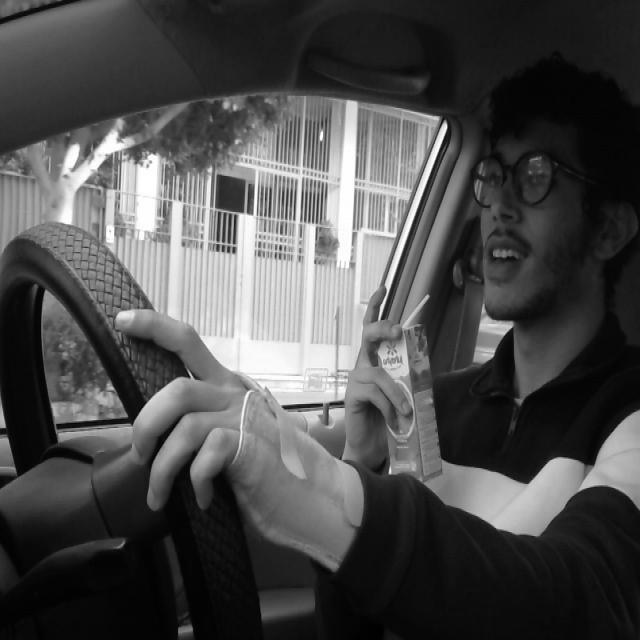Drinking: (371, 316, 447, 481)
